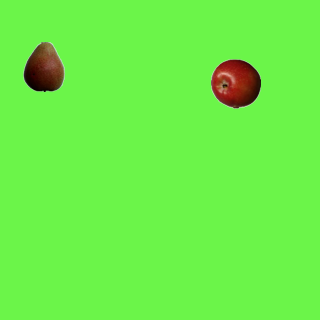Apple Braeburn: (210, 58, 260, 108)
Pear Forelle: (18, 41, 68, 91)
